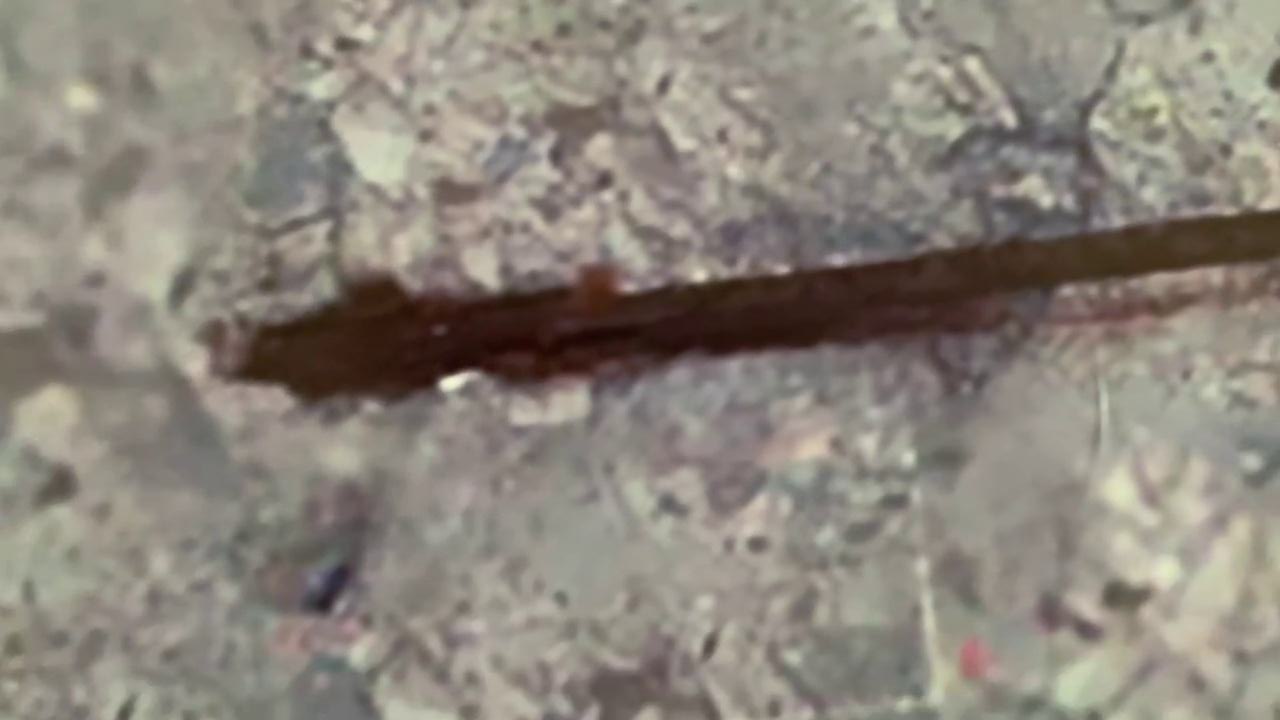Exposed reinforcement: (225, 203, 1280, 403)
